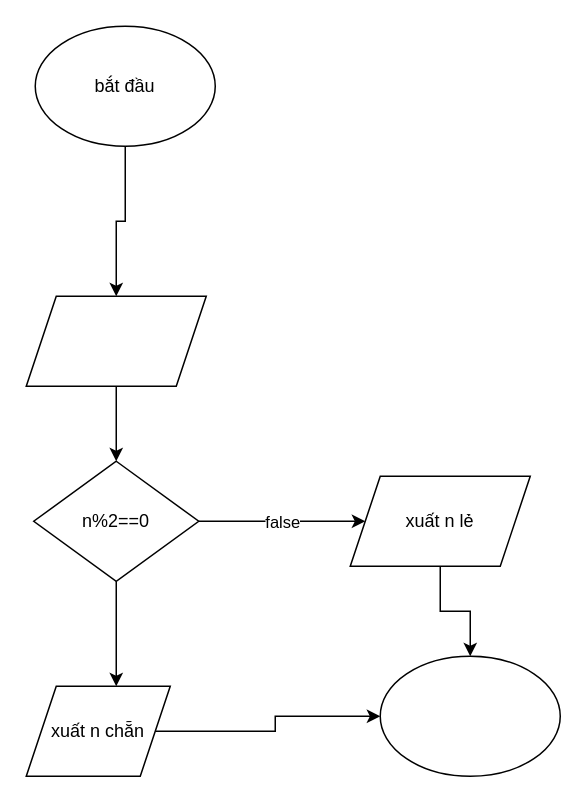
This 587x803 diagram has some shape labels left out. Each missing label, with the centre of its shape:
kết thúc: pixel 469 715
nhập n: pixel 115 340
